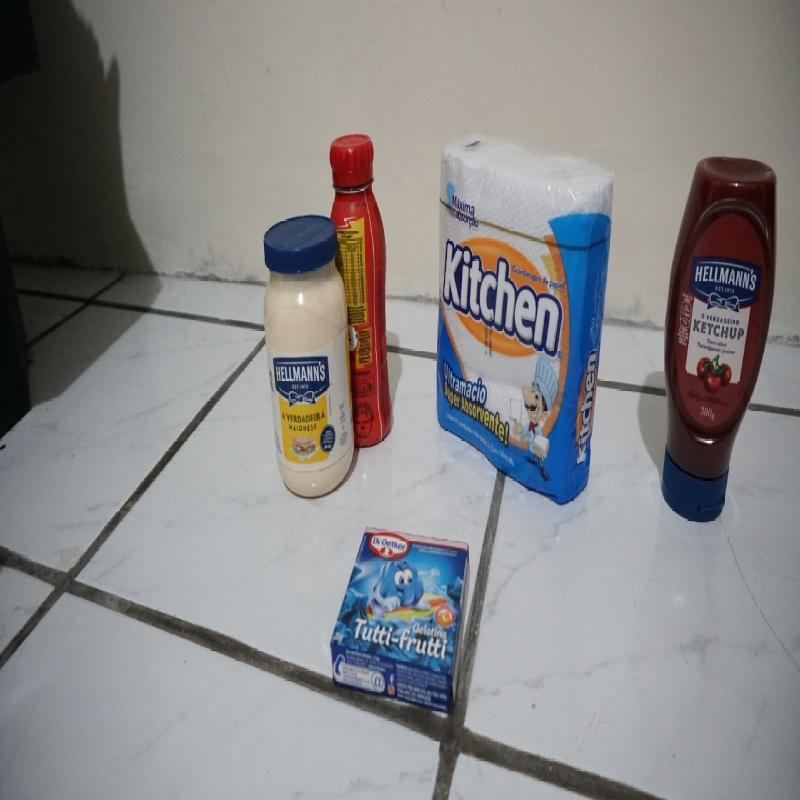Chocolate Milk: (330, 134, 394, 446)
Gelatine: (331, 523, 474, 715)
Ketchup: (661, 151, 778, 524)
Mayonnaise: (264, 216, 355, 505)
Napkin: (435, 127, 615, 504)
